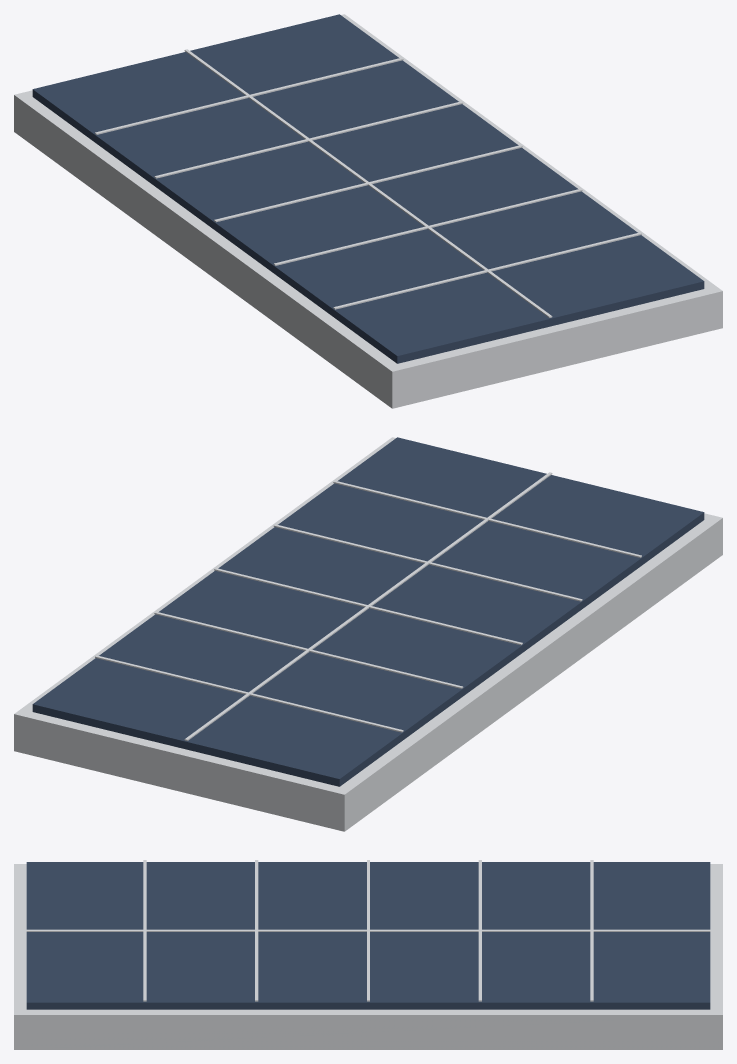
Rendered from preview-panel.glb.
3 views of the same model, one above another, from view 1: azimuth 30°, elevation 25°; view 2: azimuth 150°, elevation 25°; view 3: azimuth 270°, elevation 25° (orthographic). The views are drawn at different scales.
Parts seen in each view (by area): view 1: preview-panel; view 2: preview-panel; view 3: preview-panel.
Boxes of the visible parts, x1,y1,x2,y2 form: preview-panel: (14,14,722,408); preview-panel: (14,437,722,831); preview-panel: (14,860,722,1049).
Bounding box in the file's own units: 1.12 × 0.152 × 2.22.
